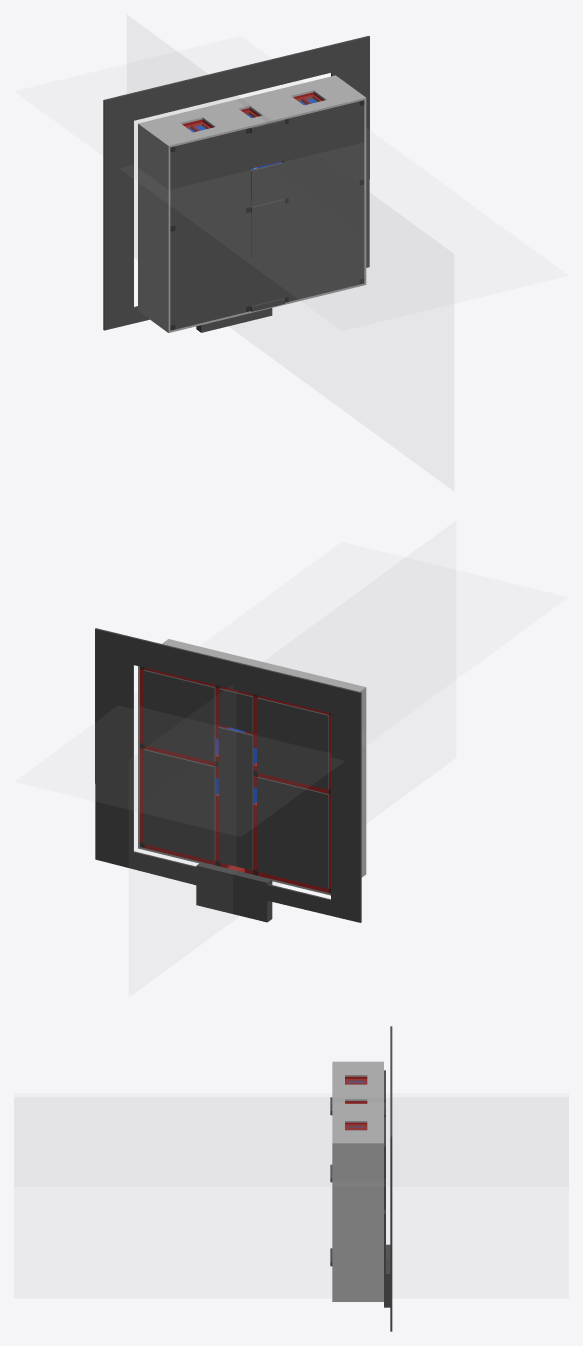
File: 0First.Floor_0.00.glb
The picture shows the model from 3 angles, top to bottom: view 1: azimuth 30°, elevation 25°; view 2: azimuth 150°, elevation 25°; view 3: azimuth 270°, elevation 25°; orthographic projection. The views are drawn at different scales.
Parts seen in each view (by area): view 1: IfcSlab_Pardoseala_6_LAYER_IfcSlab, IfcCovering_1_LAYER_IfcCovering, IfcSlab_placa_4_LAYER_IfcSlab, IfcSlab_placa_1_LAYER_IfcSlab, IfcSlab_placa_3_LAYER_IfcSlab, IfcSlab_placa_2_LAYER_IfcSlab, IfcSlab_placa_5_LAYER_IfcSlab, IfcSlab_placa_6_LAYER_IfcSlab, IfcSlab_Pardoseala_5_LAYER_IfcSlab; view 2: IfcSlab_Pardoseala_6_LAYER_IfcSlab, IfcSlab_Pardoseala_4_LAYER_IfcSlab, IfcSlab_Pardoseala_1_LAYER_IfcSlab, IfcSlab_Pardoseala_3_LAYER_IfcSlab, IfcSlab_Pardoseala_2_LAYER_IfcSlab, IfcSlab_Pardoseala_7_LAYER_IfcSlab, IfcSlab_Pardoseala_5_LAYER_IfcSlab, IfcCovering_1_LAYER_IfcCovering, IfcSlab_Pardoseala_8_LAYER_IfcSlab; view 3: IfcCovering_1_LAYER_IfcCovering, IfcSlab_Pardoseala_6_LAYER_IfcSlab.
Part boxes in pixels (bbox=[...]): IfcSlab_Pardoseala_6_LAYER_IfcSlab: bbox=[103, 36, 369, 330]; IfcCovering_1_LAYER_IfcCovering: bbox=[138, 75, 366, 332]; IfcSlab_placa_4_LAYER_IfcSlab: bbox=[288, 185, 359, 296]; IfcSlab_placa_1_LAYER_IfcSlab: bbox=[175, 213, 245, 324]; IfcSlab_placa_3_LAYER_IfcSlab: bbox=[288, 106, 359, 197]; IfcSlab_placa_2_LAYER_IfcSlab: bbox=[175, 134, 245, 225]; IfcSlab_placa_5_LAYER_IfcSlab: bbox=[251, 162, 283, 305]; IfcSlab_placa_6_LAYER_IfcSlab: bbox=[251, 126, 283, 168]; IfcSlab_Pardoseala_5_LAYER_IfcSlab: bbox=[196, 308, 272, 332]; IfcSlab_Pardoseala_6_LAYER_IfcSlab: bbox=[95, 628, 361, 922]; IfcSlab_Pardoseala_4_LAYER_IfcSlab: bbox=[143, 749, 215, 861]; IfcSlab_Pardoseala_1_LAYER_IfcSlab: bbox=[257, 777, 328, 888]; IfcSlab_Pardoseala_3_LAYER_IfcSlab: bbox=[143, 670, 215, 762]; IfcSlab_Pardoseala_2_LAYER_IfcSlab: bbox=[257, 697, 328, 789]; IfcSlab_Pardoseala_7_LAYER_IfcSlab: bbox=[218, 727, 253, 870]; IfcSlab_Pardoseala_5_LAYER_IfcSlab: bbox=[196, 862, 272, 922]; IfcCovering_1_LAYER_IfcCovering: bbox=[138, 639, 366, 895]; IfcSlab_Pardoseala_8_LAYER_IfcSlab: bbox=[219, 688, 253, 732]; IfcCovering_1_LAYER_IfcCovering: bbox=[332, 1061, 383, 1301]; IfcSlab_Pardoseala_6_LAYER_IfcSlab: bbox=[390, 1026, 392, 1331].
Size of the model in its own units: 14.04 by 13.09 by 30.
